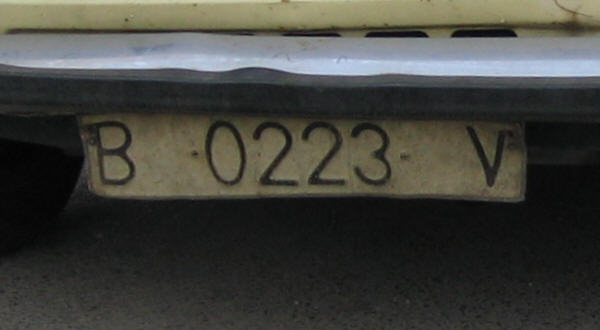license_plate: (78, 112, 527, 200)
